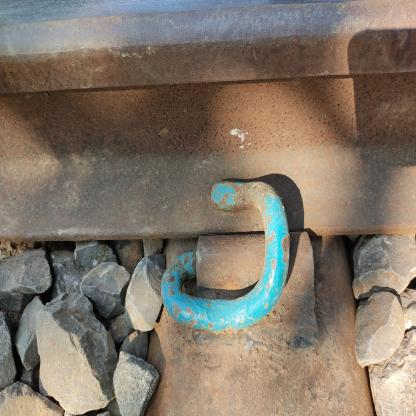Non Defective: (84, 58, 264, 270)
